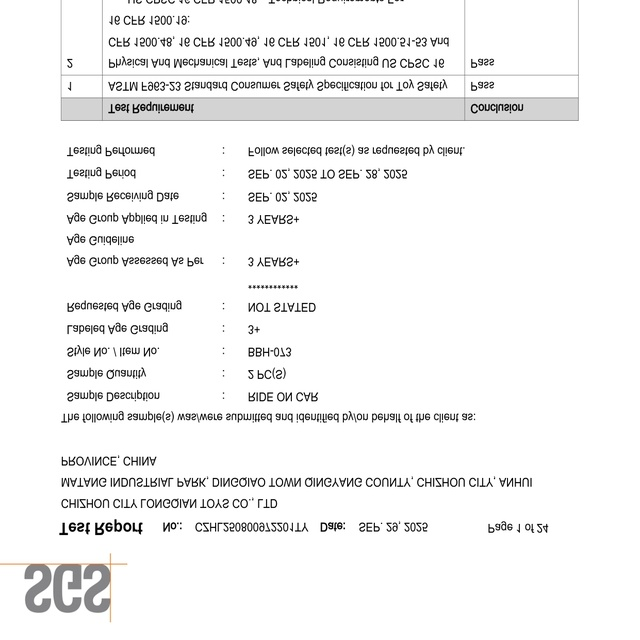sgs: (25, 564, 112, 613)
